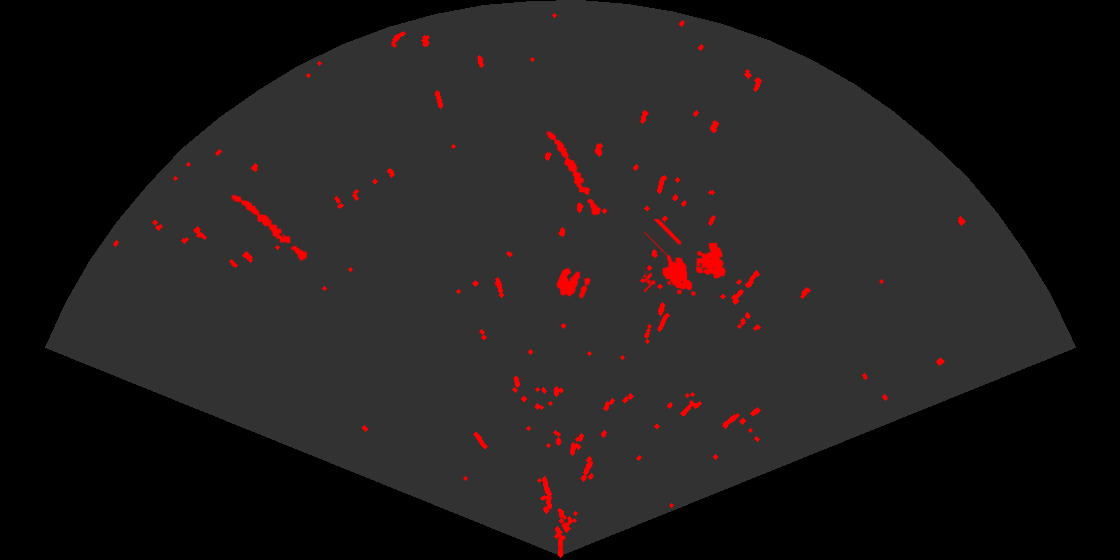ball: (555, 266, 592, 300)
cage: (644, 219, 727, 297)
chain: (230, 193, 309, 262), (545, 130, 602, 218)
